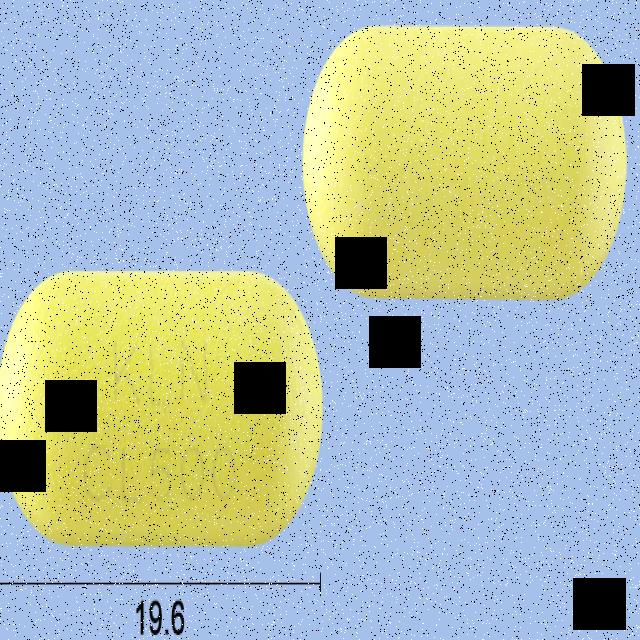New Clato Tab-500mg: (0, 270, 323, 546)
